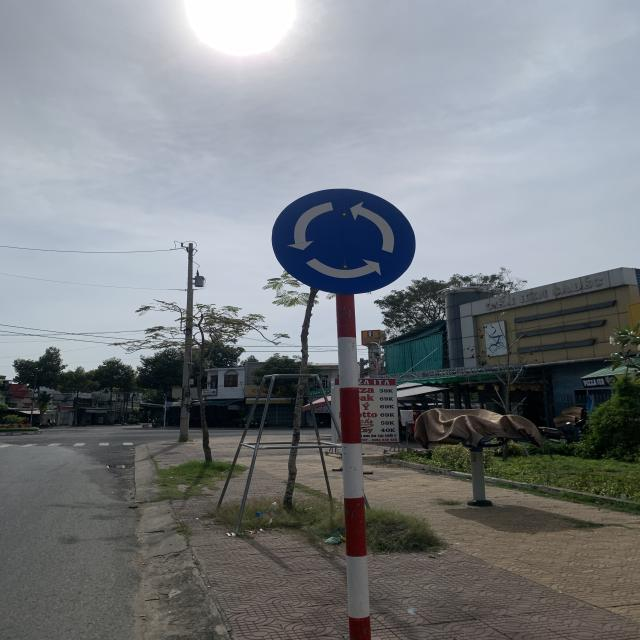Xe_Bus: (270, 185, 420, 295)
